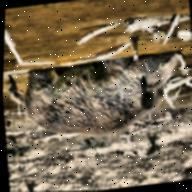boar: (1, 29, 192, 159)
